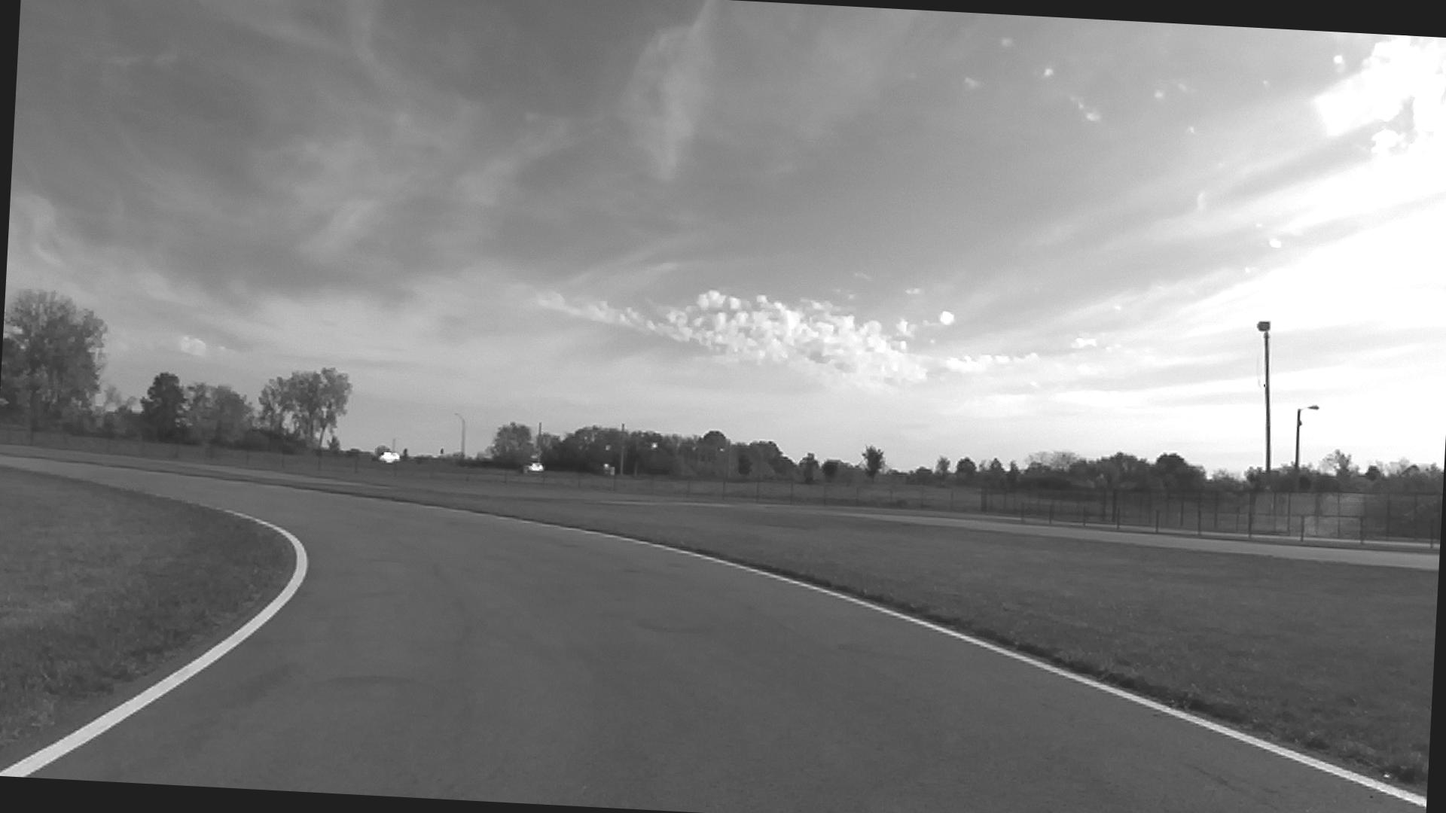white-line: (411, 502, 1427, 810), (0, 509, 308, 777), (4, 759, 37, 777)
